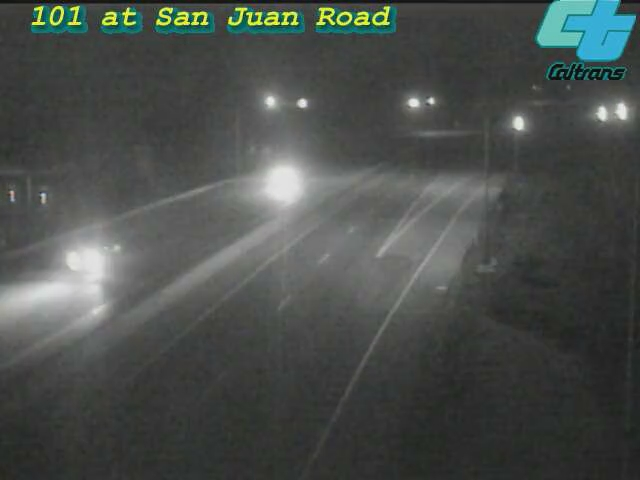vehicle: (49, 224, 129, 304), (243, 138, 323, 218), (498, 98, 548, 148), (583, 89, 633, 139), (599, 86, 640, 136)
